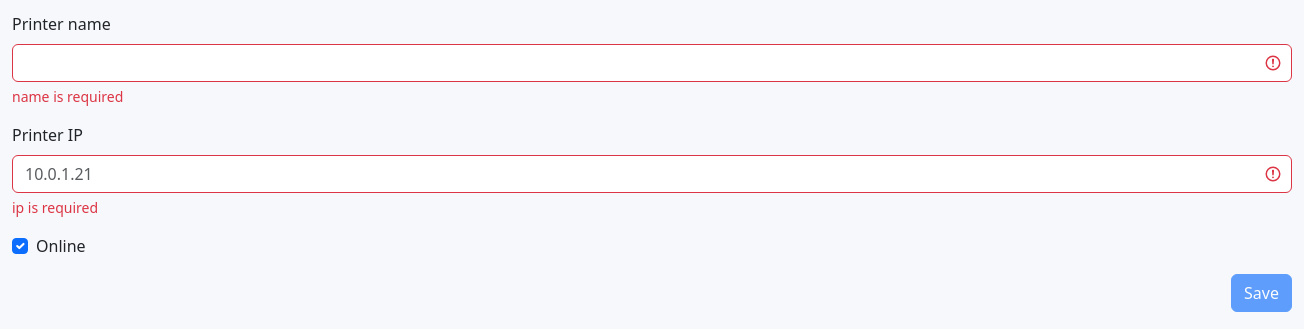
it: PrinterForm › validates IPv4
In the field labelled "Printer name": (652, 63) [12,44,1292,82], type "Reception"
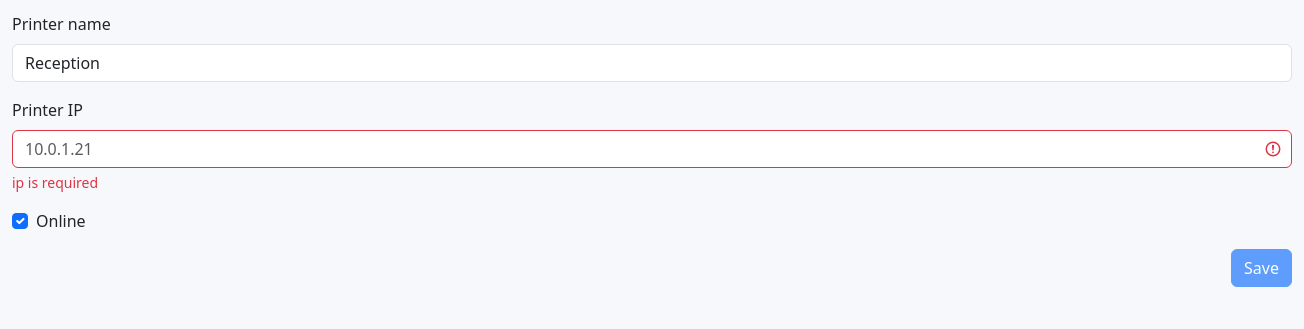
In the field labelled "Printer IP": (652, 149) [12,130,1292,168], type "not-an-ip"
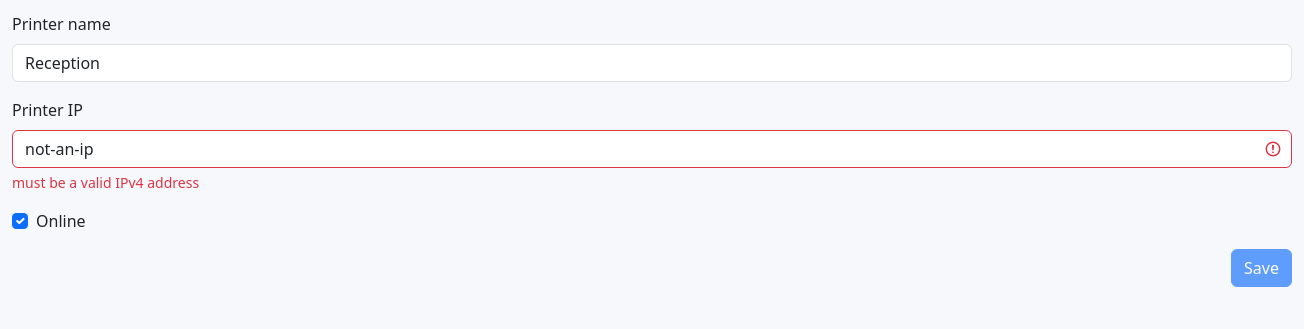
Expected: the button "Save" is disabled, [1231,249,1292,287]
Result: the text "must be a valid IPv4 address" is shown at [12,173,199,192]
